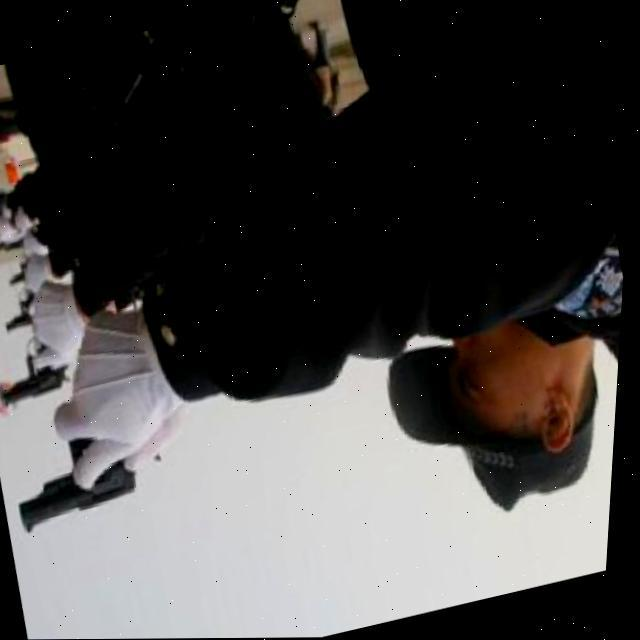gun: (11, 417, 181, 537), (0, 334, 84, 414), (0, 286, 51, 338), (5, 260, 36, 286), (3, 236, 25, 254)
